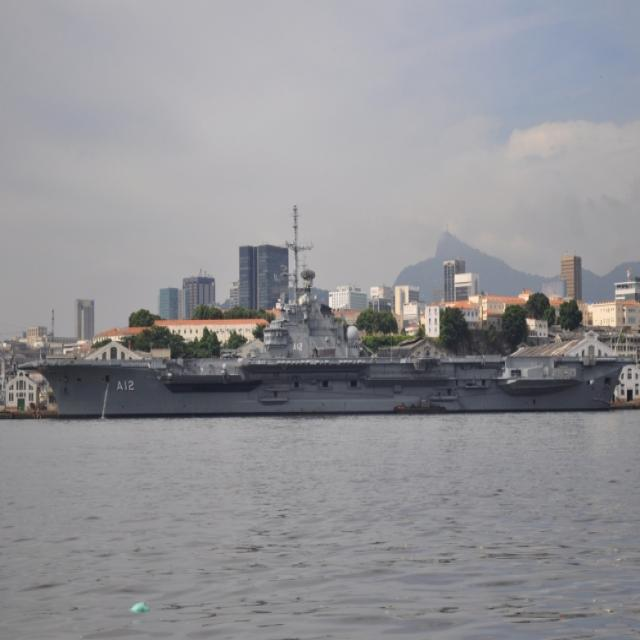Portanaves: (18, 193, 640, 423)
